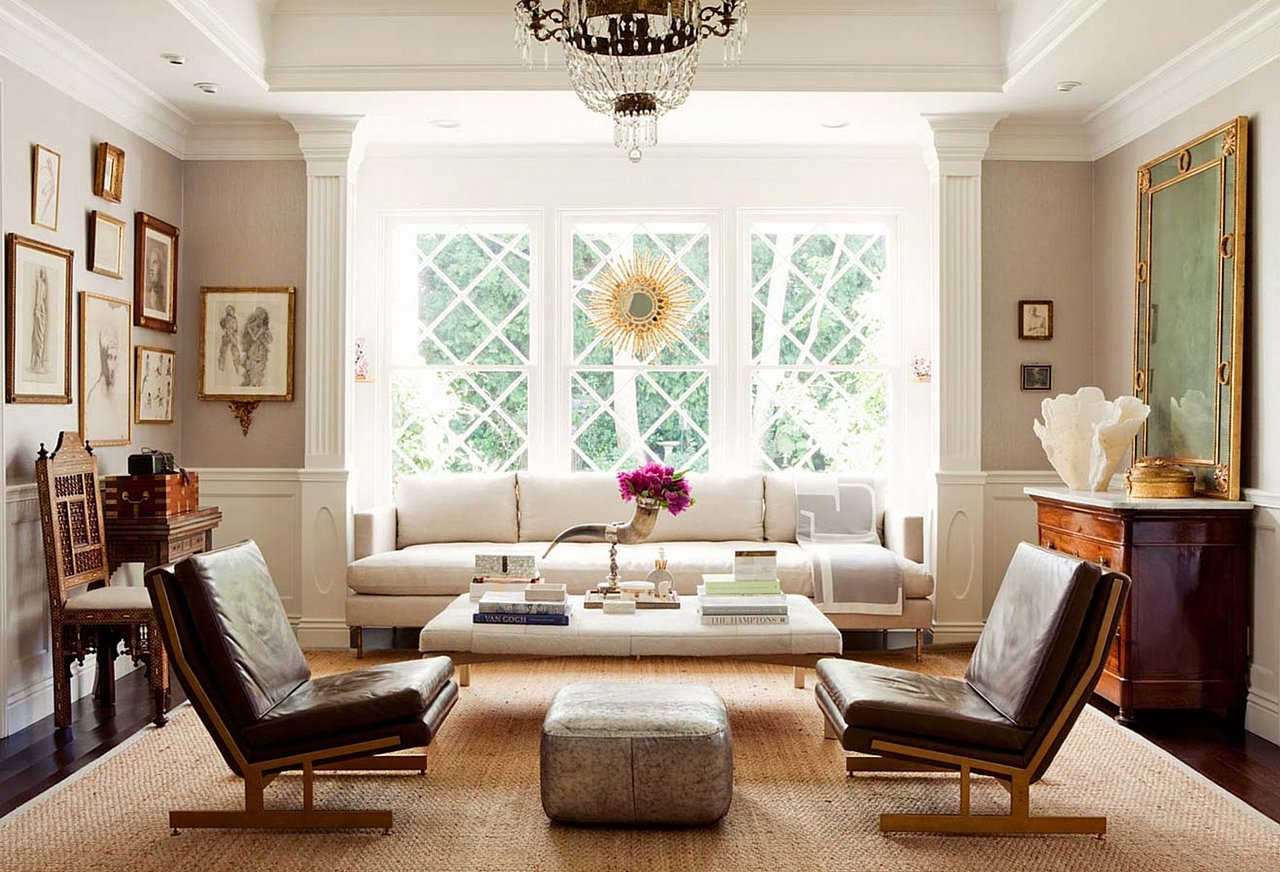buku: (691, 574, 796, 628), (474, 586, 573, 629)
kursi: (136, 535, 458, 864), (822, 543, 1144, 872)
lampu: (512, 4, 747, 157)
lukisan: (195, 285, 290, 408), (1, 239, 70, 405), (74, 289, 136, 451)
meja: (430, 575, 846, 682)
sova: (350, 469, 943, 657)
